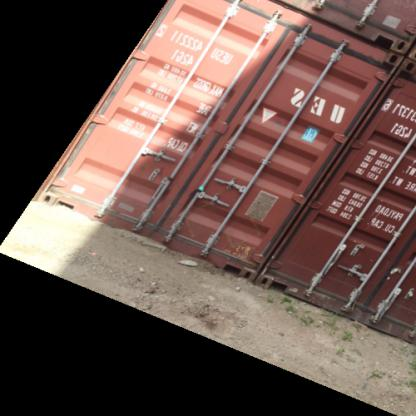Damage: (174, 202, 280, 266)
